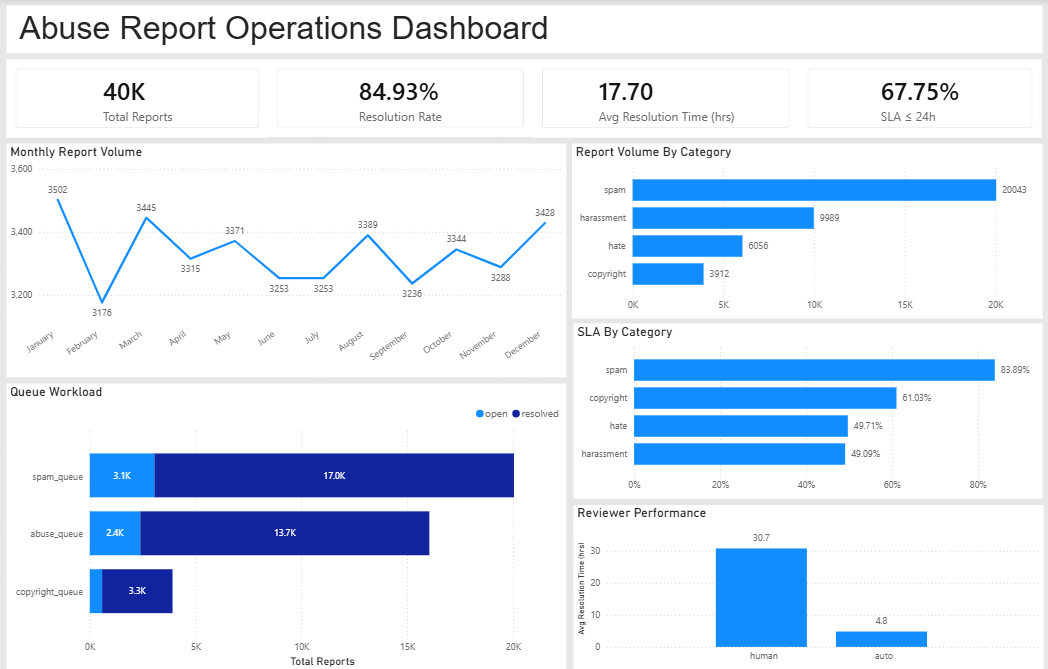

Layout of this report page (visuals, bound fields, positions):
{"tool":"powerbi","page":{"name":"Page 1","canvas":[1400,900],"ordinal":0},"visuals":[{"type":"cardVisual","fields":{"Data":["abuse_reports.SLA_24h_%"]},"box":[1064,82,322,103],"z":0},{"type":"cardVisual","title":"dwsas","fields":{"Data":["abuse_reports.total_reports"]},"box":[13,82,347,103],"z":1000},{"type":"cardVisual","title":"Resolution Rate %","fields":{"Data":["abuse_reports.resolution_rate_%"]},"box":[360,81.8,352.1,102.9],"z":2000},{"type":"cardVisual","fields":{"Data":["abuse_reports.avg_resolution_time"]},"box":[712,82,352,103],"z":3000},{"type":"clusteredBarChart","title":"Report Volume By Category","fields":{"Category":["abuse_reports.category"],"Y":["CountNonNull(abuse_reports.report_id)"]},"box":[764,192,624,232],"z":4000},{"type":"lineChart","title":"Monthly Report Volume","fields":{"Category":["abuse_reports.start_of_month.Variation.Date Hierarchy.Month"],"Y":["CountNonNull(abuse_reports.report_id)"]},"box":[14,192,742,310],"z":5000},{"type":"clusteredColumnChart","title":"Reviewer Performance","fields":{"Category":["abuse_reports.reviewer_type"],"Y":["abuse_reports.avg_resolution_time"]},"box":[764.7,672.2,623.3,217.8],"z":6000},{"type":"clusteredBarChart","title":"SLA By Category","fields":{"Y":["abuse_reports.SLA_24h_%"],"Category":["abuse_reports.category"]},"box":[765.3,432.1,622,232],"z":7000},{"type":"barChart","title":"Queue Workload","fields":{"Category":["abuse_reports.queue_name"],"Y":["CountNonNull(abuse_reports.report_id)"],"Series":["abuse_reports.status"]},"box":[14.4,510,742.2,380],"z":8000},{"type":"textbox","box":[13.3,10,1373.3,63.3],"z":9000}]}

Visuals, with their boxes in screenshot pixels (x1, y1, x2, y2), scaled from the page's 1400x900 canvas onto the 1048x669 screenshot:
cardVisual - abuse_reports.SLA_24h_%: [796,61,1038,138]
"dwsas" cardVisual: [10,61,269,138]
"Resolution Rate %" cardVisual: [269,61,533,137]
cardVisual - abuse_reports.avg_resolution_time: [533,61,796,138]
"Report Volume By Category" clusteredBarChart: [572,143,1039,315]
"Monthly Report Volume" lineChart: [10,143,566,373]
"Reviewer Performance" clusteredColumnChart: [572,500,1039,662]
"SLA By Category" clusteredBarChart: [573,321,1038,494]
"Queue Workload" barChart: [11,379,566,662]
textbox: [10,7,1038,54]
